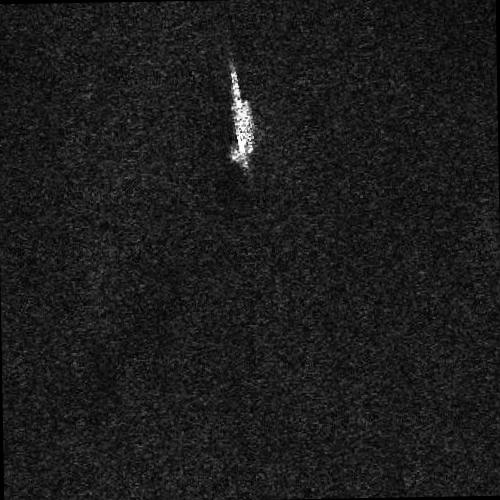ship: (229, 63, 254, 171)
